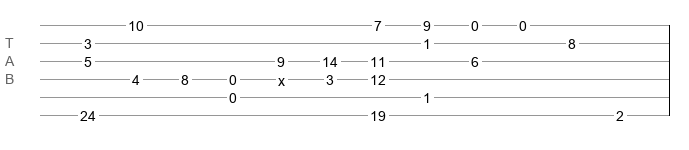0: (229, 90, 237, 100), (229, 72, 237, 82), (471, 18, 479, 28), (519, 18, 527, 28)
1: (423, 90, 431, 100), (423, 36, 431, 46)
10: (128, 18, 144, 28)
11: (370, 54, 386, 64)
12: (370, 72, 386, 82)
14: (322, 54, 338, 64)
19: (370, 108, 386, 118)
2: (616, 108, 624, 118)
24: (80, 108, 96, 118)
3: (84, 36, 92, 46), (326, 72, 334, 82)
4: (132, 72, 140, 82)
5: (84, 54, 92, 64)
6: (471, 54, 479, 64)
7: (374, 18, 382, 28)
8: (181, 72, 189, 82), (568, 36, 576, 46)
9: (277, 54, 285, 64), (423, 18, 431, 28)
x: (278, 73, 285, 81)
